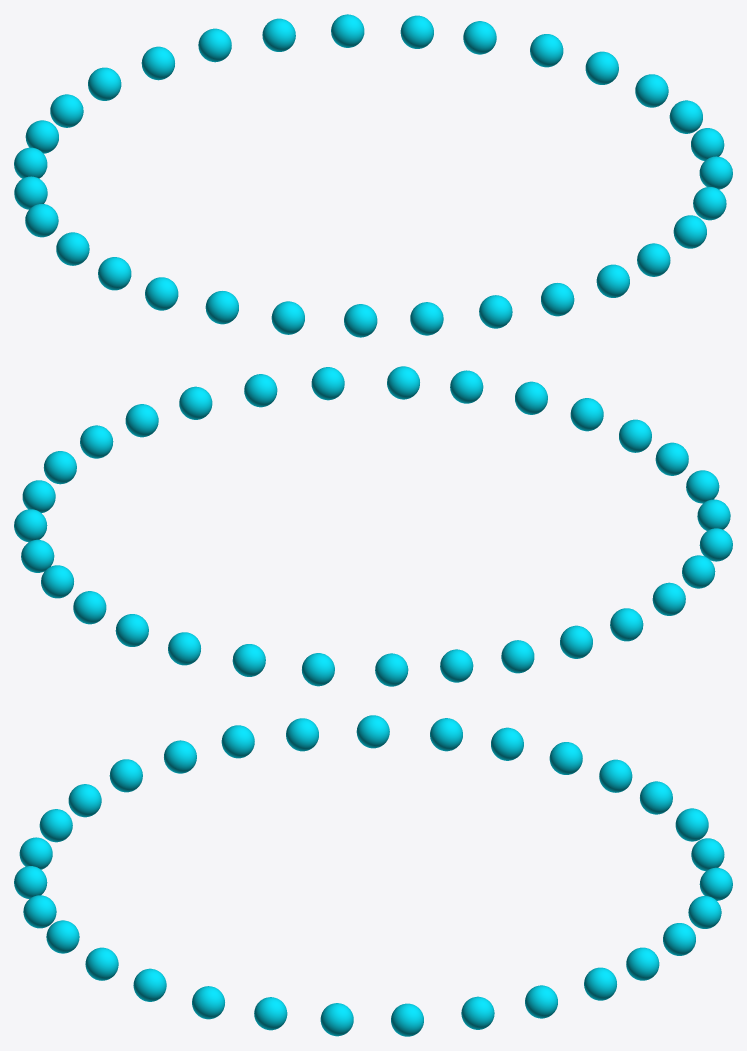
3 renders of one model, top to bottom at view 1: azimuth 30°, elevation 25°; view 2: azimuth 150°, elevation 25°; view 3: azimuth 270°, elevation 25°, orthographic.
Parts seen in each view (by area): view 1: Sphere050; view 2: Sphere050; view 3: Sphere050.
Boxes of the visible parts, x1,y1,x2,y2 form: Sphere050: (14, 14, 732, 337); Sphere050: (14, 366, 732, 686); Sphere050: (14, 715, 732, 1036).
Size of the model in its own units: 177 by 8.22 by 178.
